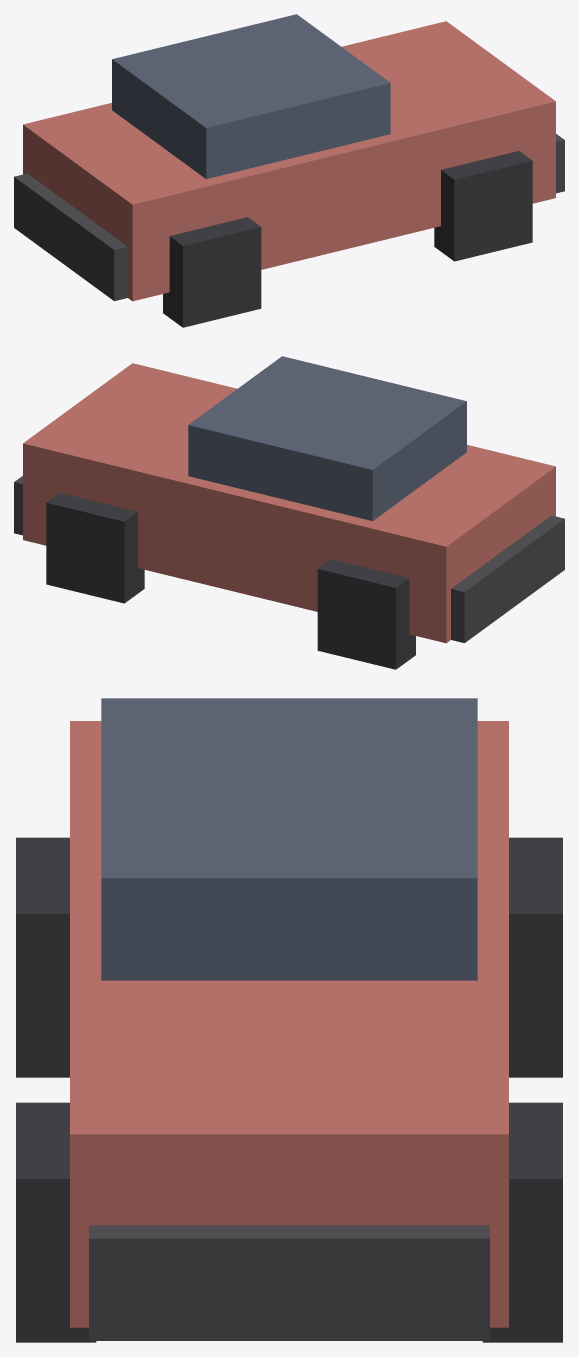
File: car.gltf
3 renders of one model, top to bottom at view 1: azimuth 30°, elevation 25°; view 2: azimuth 150°, elevation 25°; view 3: azimuth 270°, elevation 25°, orthographic. The views are drawn at different scales.
Parts seen in each view (by area): view 1: car; view 2: car; view 3: car.
Boxes of the visible parts, box(x1,y1,x2,y2) form: car: box(14, 14, 564, 327); car: box(14, 356, 564, 669); car: box(16, 698, 562, 1342).
Size of the model in its own units: 4.15 by 1.52 by 2.18.
